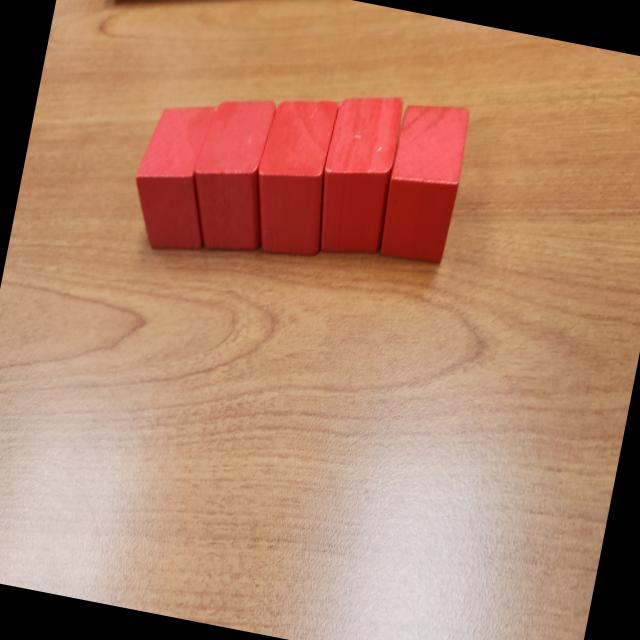red: (242, 88, 350, 263), (179, 87, 288, 260), (306, 86, 410, 264), (122, 92, 232, 260), (374, 96, 474, 268)
